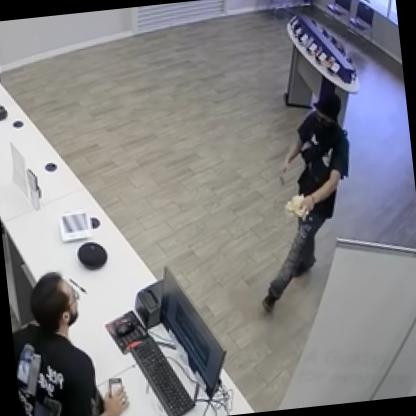Human Body: (230, 89, 374, 318), (5, 256, 140, 415)
